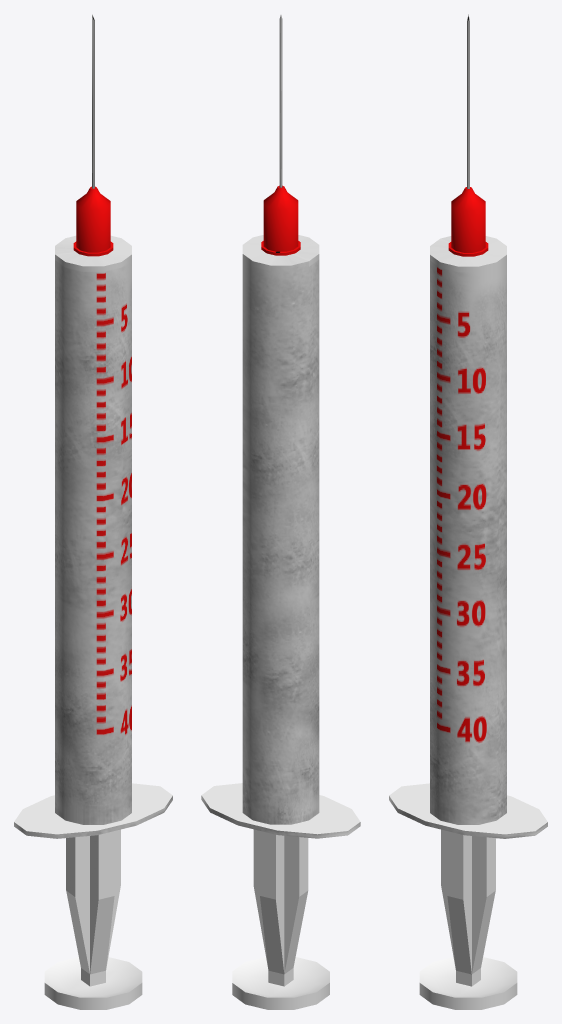
The model's file is Syringe.fbx.
3 renders of one model, left to right at view 1: azimuth 30°, elevation 25°; view 2: azimuth 150°, elevation 25°; view 3: azimuth 330°, elevation 25°, orthographic.
Parts seen in each view (by area): view 1: Syringe; view 2: Syringe; view 3: Syringe.
Part boxes in pixels (x1,y1,x2,y2): Syringe: (14, 14, 172, 1009); Syringe: (201, 15, 360, 1009); Syringe: (389, 14, 547, 1009).
Size of the model in its own units: 2967 by 18886 by 1713.
Materials: 1 (1 with a texture image).
